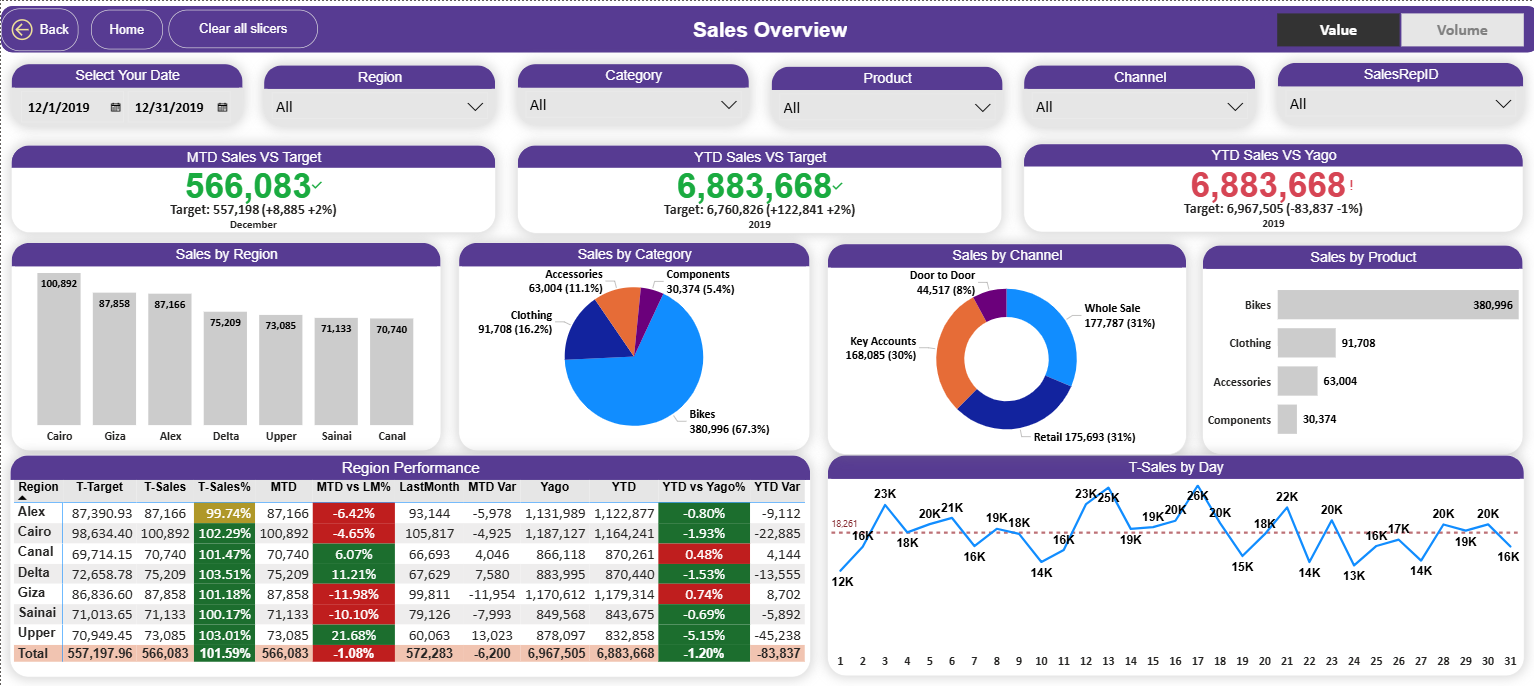

This screenshot's page, from the dashboard's own definition file:
{"tool":"powerbi","page":{"name":"Duplicate of Overview","canvas":[2050,920],"ordinal":1},"visuals":[{"type":"columnChart","title":"Sales by Region","fields":{"Category":["Dim_Region.Region"],"Y":["Val_Or_Vol_PramT.Table_Val_Or_Vol"]},"box":[13.3,322,573.9,278.6],"z":0},{"type":"shape","box":[0,7.1,2050.8,62],"z":1000},{"type":"slicer","title":"Region","fields":{"Values":["Dim_Region.Region"]},"box":[350.6,85.5,309.7,82.3],"z":2000},{"type":"slicer","title":"Product","fields":{"Values":["Dim_Product.Product"]},"box":[1026.1,87.1,309.7,82.3],"z":3000},{"type":"slicer","title":"Category","fields":{"Values":["Dim_Product.Category"]},"box":[688.4,83.9,309.7,82.3],"z":4000},{"type":"slicer","title":"Channel","fields":{"Values":["Channels.Channel"]},"box":[1363.9,85.5,309.7,83.9],"z":5000},{"type":"pieChart","title":"Sales by Category","fields":{"Category":["Dim_Product.Category"],"Y":["Val_Or_Vol_PramT.Table_Val_Or_Vol"]},"box":[610.6,322,468.8,278.6],"z":6000},{"type":"clusteredBarChart","title":"Sales by Product","fields":{"Category":["Dim_Product.Category","Dim_Product.Product"],"Y":["Val_Or_Vol_PramT.Table_Val_Or_Vol"]},"box":[1601.7,325,428.3,280],"z":7000},{"type":"slicer","title":"Select Your Date","fields":{"Values":["Calender.Date"]},"box":[12.9,83.9,309.7,83.9],"z":8000},{"type":"pivotTable","title":"Region Performance","fields":{"Rows":["Dim_Region.Region"],"Values":["#Val_Or_Vol_PramT.T-Target","Val_Or_Vol_PramT.Table_Val_Or_Vol","#Val_Or_Vol_PramT.Taget% Sales","#Val_Or_Vol_PramT.MTD-Sales","#Val_Or_Vol_PramT.MTD vs LM%","#Val_Or_Vol_PramT.MTD-LM","#Val_Or_Vol_PramT.MTD Var","#Val_Or_Vol_PramT.Yago","#Val_Or_Vol_PramT.YTD","#Val_Or_Vol_PramT.YTD vs Yago%","#Val_Or_Vol_PramT.YTD Var"]},"box":[11.7,605.6,1067.7,297],"z":9000},{"type":"lineChart","fields":{"Category":["Calender.Year","Calender.MonthN","Calender.Day"],"Y":["#Val_Or_Vol_PramT.T-Sales"]},"box":[1101.1,605.6,929.2,295.3],"z":10000},{"type":"donutChart","title":"Sales by Channel","fields":{"Category":["Channels.Channel"],"Y":["Val_Or_Vol_PramT.Table_Val_Or_Vol"]},"box":[1101.1,323.6,478.8,281.9],"z":11000},{"type":"slicer","title":"SalesRepID","fields":{"Values":["SalesData.SalesRepID"]},"box":[1701.6,82.3,329,83.9],"z":12000},{"type":"kpi","title":"MTD Sales VS Target","fields":{"TrendLine":["Calender.Date.Variation.Date Hierarchy.Month"],"Indicator":["Val_Or_Vol_PramT.Table_Val_Or_Vol"],"Goal":["#Val_Or_Vol_PramT.T-Target"]},"box":[12.9,191.9,646.8,117.7],"z":13000},{"type":"kpi","title":"YTD Sales VS Target","fields":{"TrendLine":["Calender.Year"],"Indicator":["#Val_Or_Vol_PramT.YTD"],"Goal":["#Val_Or_Vol_PramT.YTD_Target"]},"box":[688.3,191.7,646.7,118.3],"z":14000},{"type":"kpi","title":"YTD Sales VS Yago","fields":{"Indicator":["#Val_Or_Vol_PramT.YTD"],"Goal":["#Val_Or_Vol_PramT.Yago"],"TrendLine":["Calender.Date.Variation.Date Hierarchy.Year"]},"box":[1363.3,190,666.7,118.3],"z":15000},{"type":"slicer","fields":{"Values":["Val_Or_Vol_PramT.Option"]},"box":[1680,13.3,370,50],"z":16000},{"type":"actionButton","box":[0,10,103.4,56.7],"z":17000},{"type":"actionButton","box":[119.3,11.7,95.8,52.8],"z":18000},{"type":"actionButton","box":[223,11.7,199.5,50.9],"z":19000}]}

Visuals, with their boxes in screenshot pixels (x1, y1, x2, y2), scaled from the page's 2050x920 canvas onto the 1534x686 screenshot:
"Sales by Region" columnChart: 10 240 439 448
shape: 0 5 1533 52
"Region" slicer: 262 64 494 125
"Product" slicer: 768 65 1000 126
"Category" slicer: 515 63 747 124
"Channel" slicer: 1021 64 1252 126
"Sales by Category" pieChart: 457 240 808 448
"Sales by Product" clusteredBarChart: 1199 242 1519 451
"Select Your Date" slicer: 10 63 241 125
"Region Performance" pivotTable: 9 452 808 673
lineChart - Calender.Year x Calender.MonthN: 824 452 1519 672
"Sales by Channel" donutChart: 824 241 1182 451
"SalesRepID" slicer: 1273 61 1519 124
"MTD Sales VS Target" kpi: 10 143 494 231
"YTD Sales VS Target" kpi: 515 143 999 231
"YTD Sales VS Yago" kpi: 1020 142 1519 230
slicer - Val_Or_Vol_PramT.Option: 1257 10 1533 47
actionButton: 0 7 77 50
actionButton: 89 9 161 48
actionButton: 167 9 316 47
